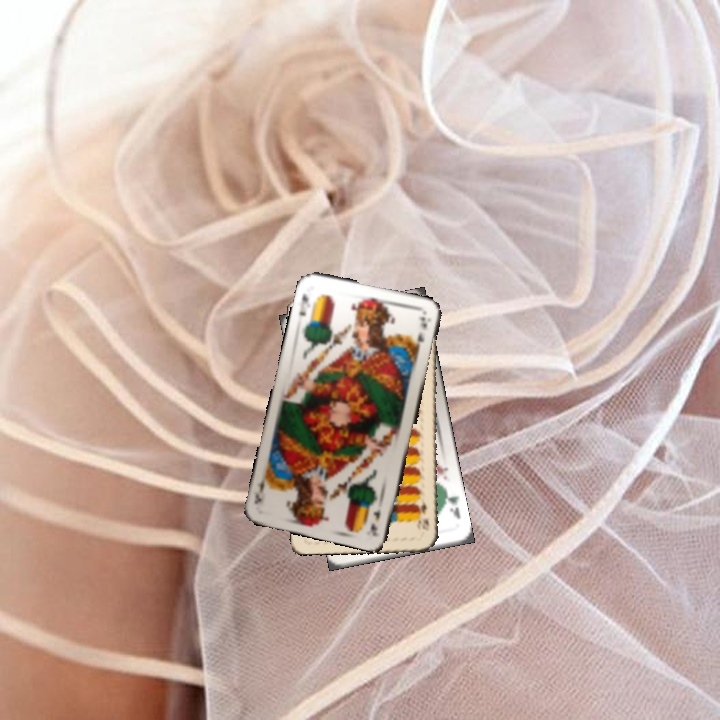E10: (414, 496, 431, 533)
EK: (367, 505, 383, 536), (295, 290, 311, 319)
GK: (441, 489, 463, 521)
